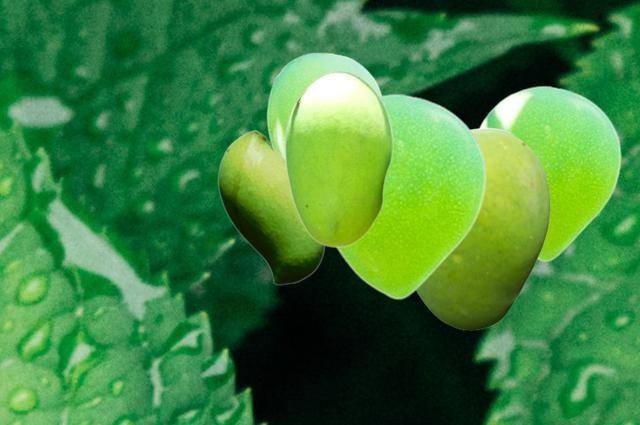green_mango: (333, 93, 485, 299), (415, 127, 549, 329), (476, 85, 620, 261), (284, 70, 392, 246), (217, 129, 324, 284), (266, 52, 382, 155)
